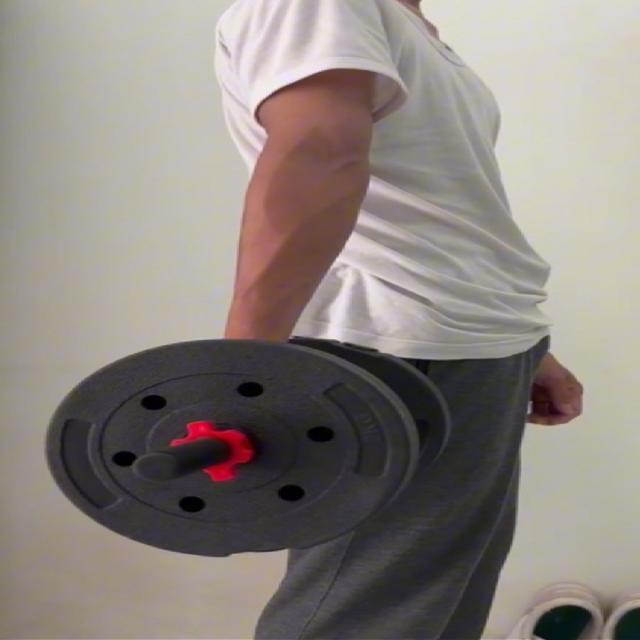dumbbell: (40, 335, 451, 555)
